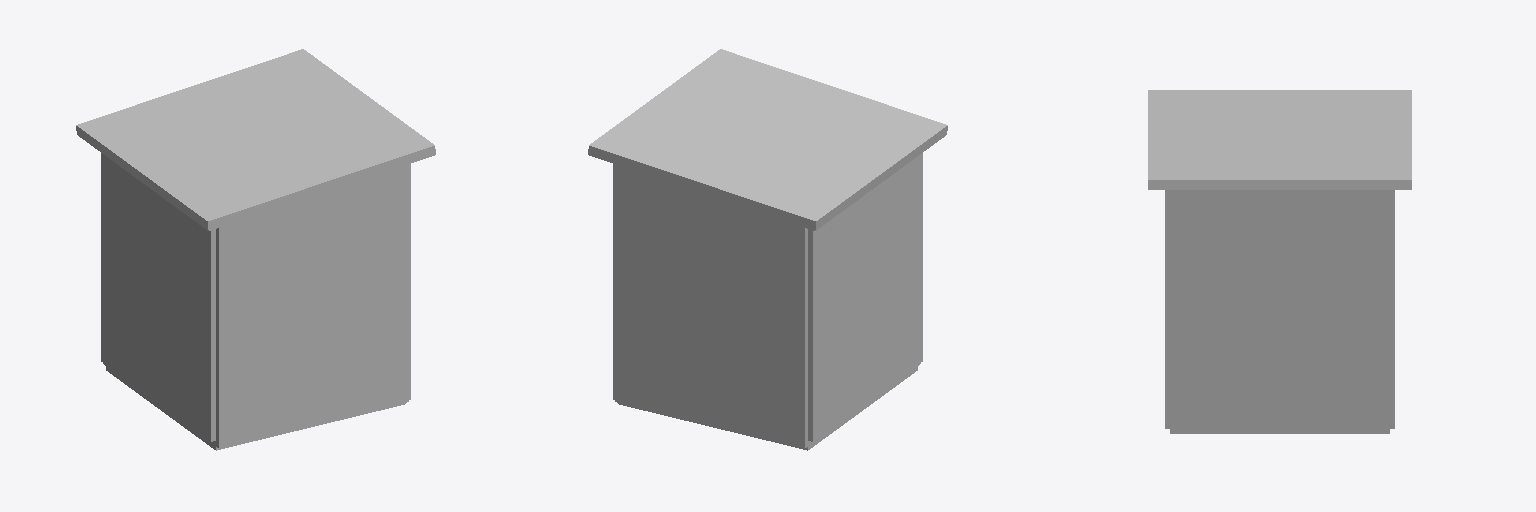
Rendered from shed.obj.
3 views of the same model, side by side, from view 1: azimuth 30°, elevation 25°; view 2: azimuth 150°, elevation 25°; view 3: azimuth 270°, elevation 25° (orthographic).
Bounding box in the file's own units: 3.6 × 3.96 × 3.6.